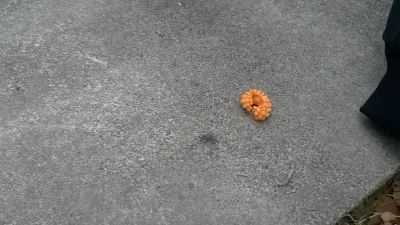eggs: (238, 86, 273, 123)
